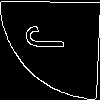J: (25, 24, 75, 52)
